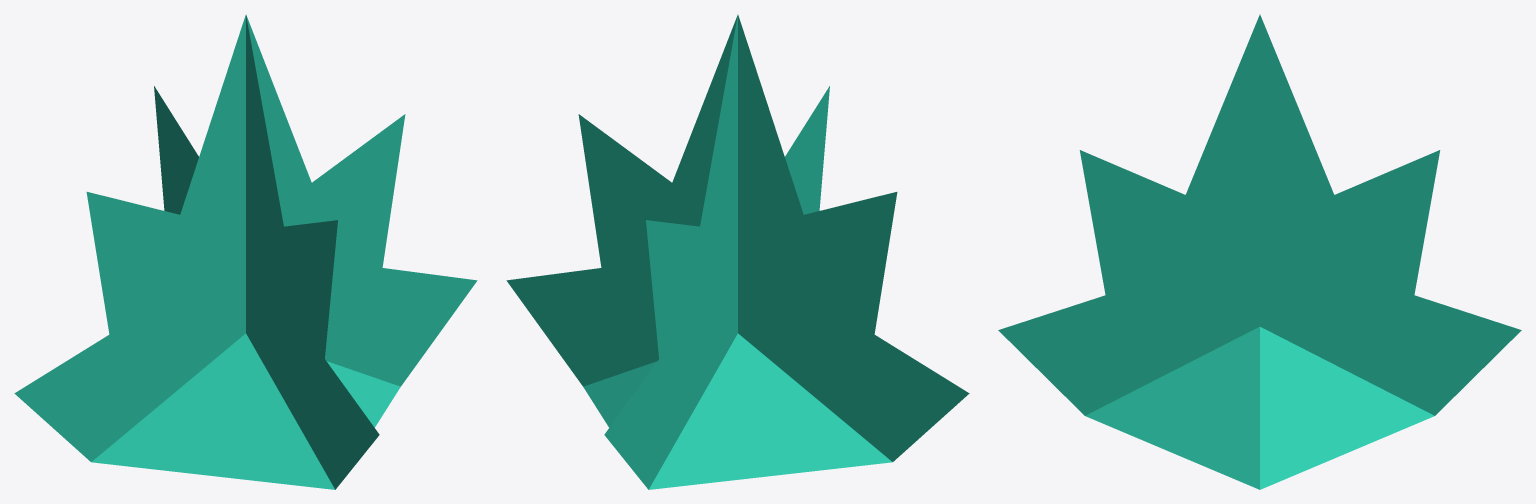
File: plant-flat-short.glb
The picture shows the model from 3 angles, left to right: view 1: azimuth 30°, elevation 25°; view 2: azimuth 150°, elevation 25°; view 3: azimuth 270°, elevation 25°; orthographic projection. The views are drawn at different scales.
Parts seen in each view (by area): view 1: plant_flatShort; view 2: plant_flatShort; view 3: plant_flatShort.
Part boxes in pixels (bbox=[...]): plant_flatShort: bbox=[14, 14, 477, 489]; plant_flatShort: bbox=[506, 14, 969, 489]; plant_flatShort: bbox=[998, 14, 1521, 489].
Bounding box in the file's own units: 0.2776 × 0.2351 × 0.2776.
